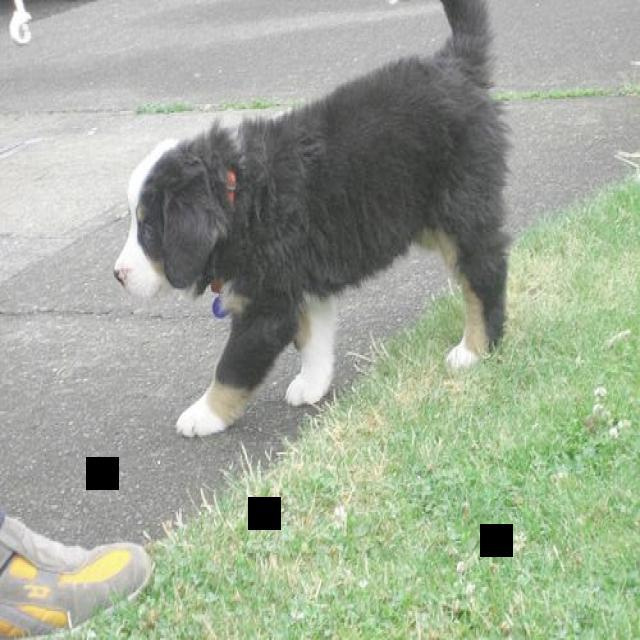puppy-dog: (111, 0, 518, 445)
